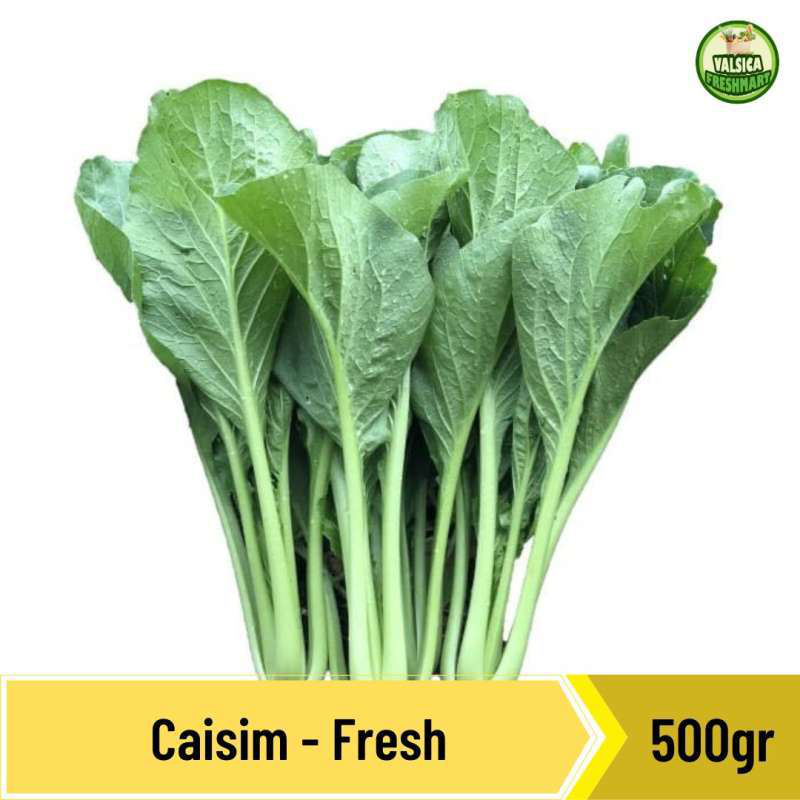Sawi: (82, 47, 712, 635)
